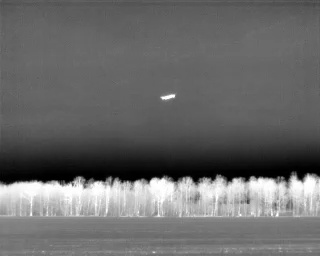DRONE: (157, 89, 179, 104)
